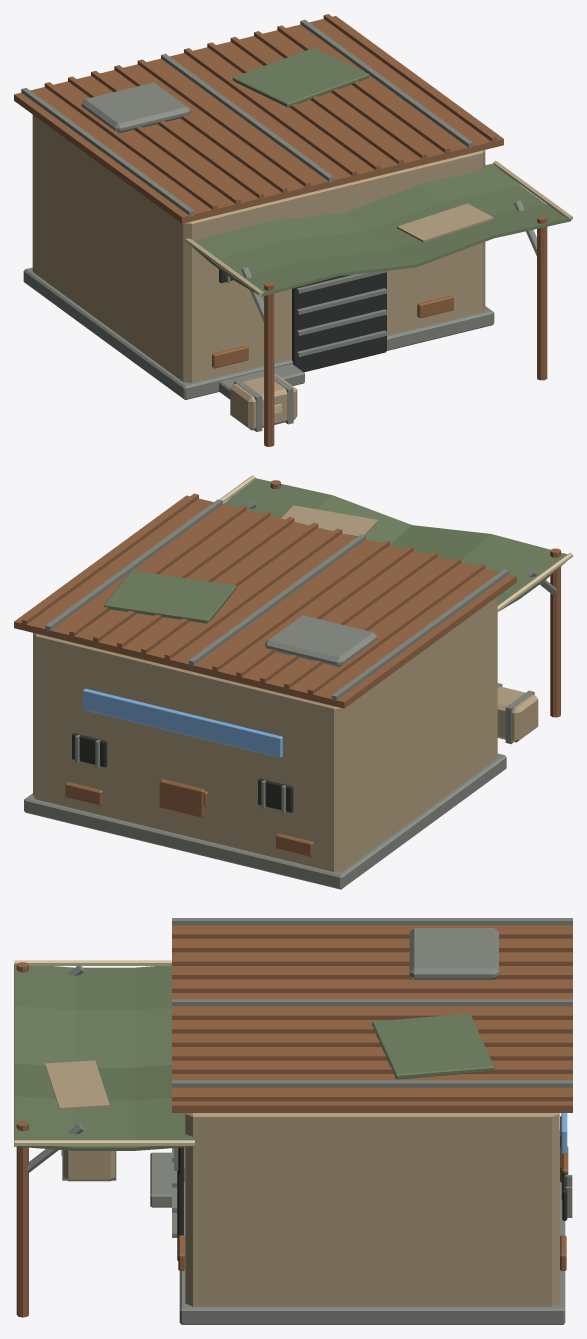
File: safehouse.glb
The picture shows the model from 3 angles, top to bottom: view 1: azimuth 30°, elevation 25°; view 2: azimuth 150°, elevation 25°; view 3: azimuth 270°, elevation 25°; orthographic projection. The views are drawn at different scales.
Visible parts, largest first — view 1: safehouse; view 2: safehouse; view 3: safehouse.
Boxes of the visible parts, x1,y1,x2,y2 form: safehouse: (14, 14, 572, 446); safehouse: (14, 475, 572, 889); safehouse: (14, 918, 572, 1324).
Bounding box in the file's own units: 2.4 × 1.4 × 3.
